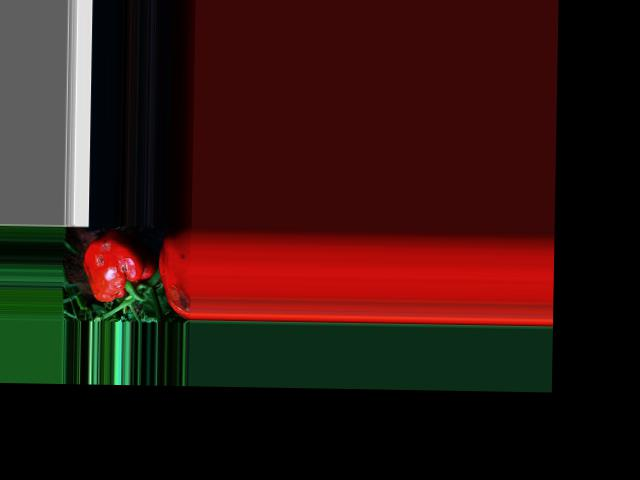bell_pepper: (85, 225, 156, 309)
